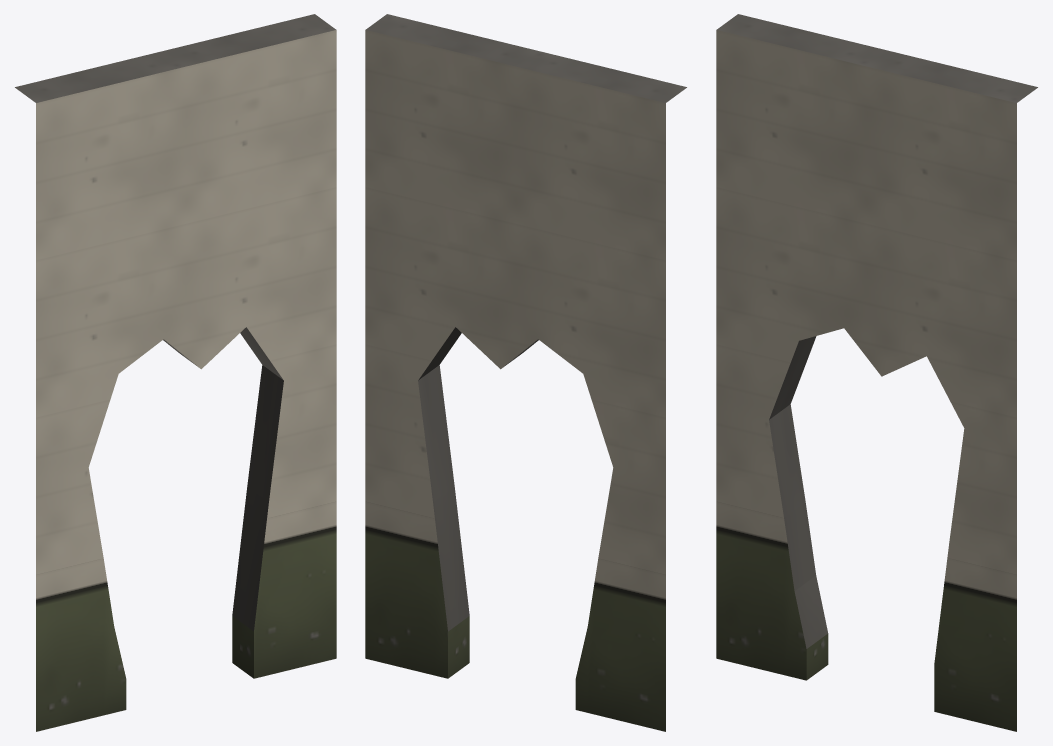
Rendered from wall_bunker_hole.glb.
The picture shows the model from 3 angles, left to right: view 1: azimuth 30°, elevation 25°; view 2: azimuth 150°, elevation 25°; view 3: azimuth 330°, elevation 25°; orthographic projection.
Visible parts, largest first — view 1: wall_bunker_hole; view 2: wall_bunker_hole; view 3: wall_bunker_hole.
Part boxes in pixels (x1,y1,x2,y2): wall_bunker_hole: (15, 14, 336, 731); wall_bunker_hole: (365, 14, 686, 731); wall_bunker_hole: (716, 14, 1037, 731).
Bounding box in the file's own units: 2 × 4 × 0.25.
Materials: 1 (1 with a texture image).
